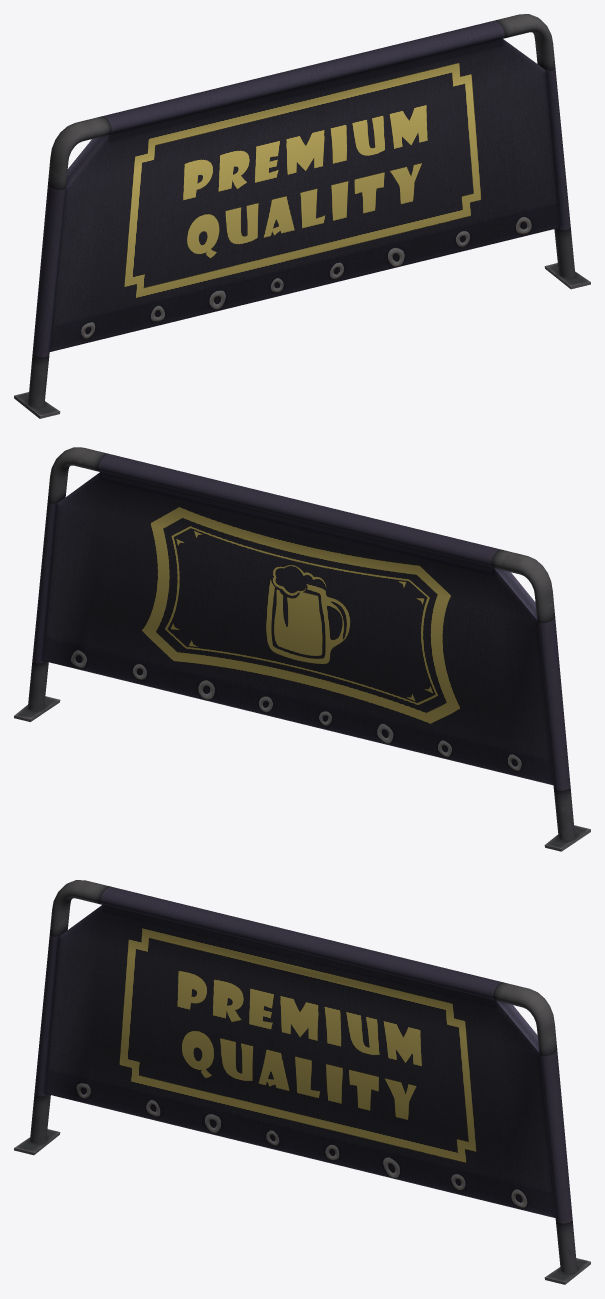
File: StreetCafeBarrier01_2.FBX
3 renders of one model, top to bottom at view 1: azimuth 30°, elevation 25°; view 2: azimuth 150°, elevation 25°; view 3: azimuth 330°, elevation 25°, orthographic.
Parts seen in each view (by area): view 1: StreetCafeBarrier01_2; view 2: StreetCafeBarrier01_2; view 3: StreetCafeBarrier01_2.
Part boxes in pixels (bbox=[...]): StreetCafeBarrier01_2: bbox=[14, 14, 590, 418]; StreetCafeBarrier01_2: bbox=[14, 447, 590, 851]; StreetCafeBarrier01_2: bbox=[14, 880, 590, 1284].
Size of what is drawn, in the model's own units: 2.4 by 1.13 by 0.2101.
